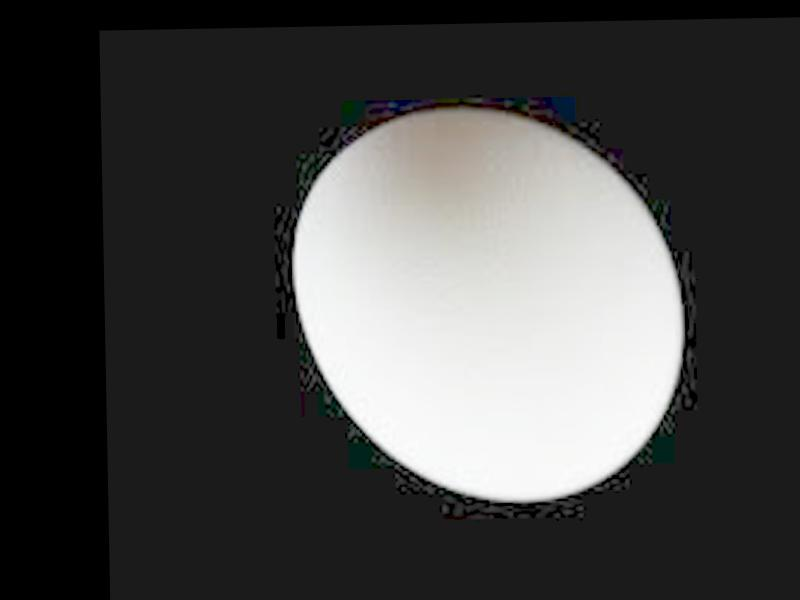Eggs: (289, 110, 683, 505)
